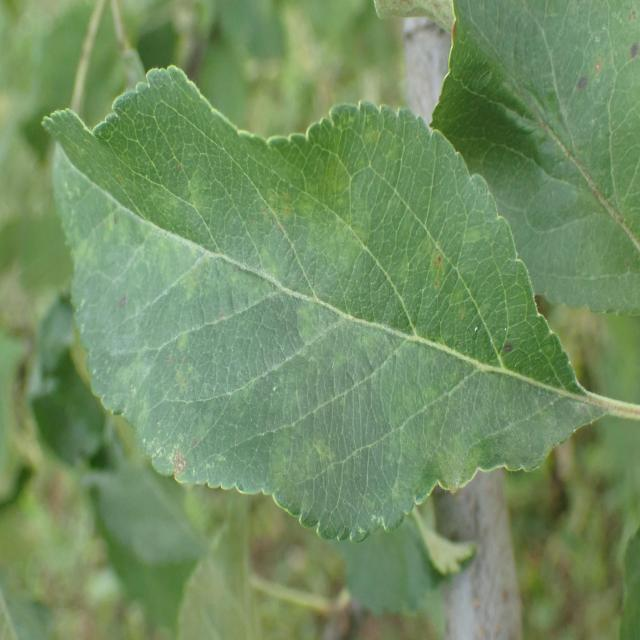scab: (70, 134, 517, 504)
